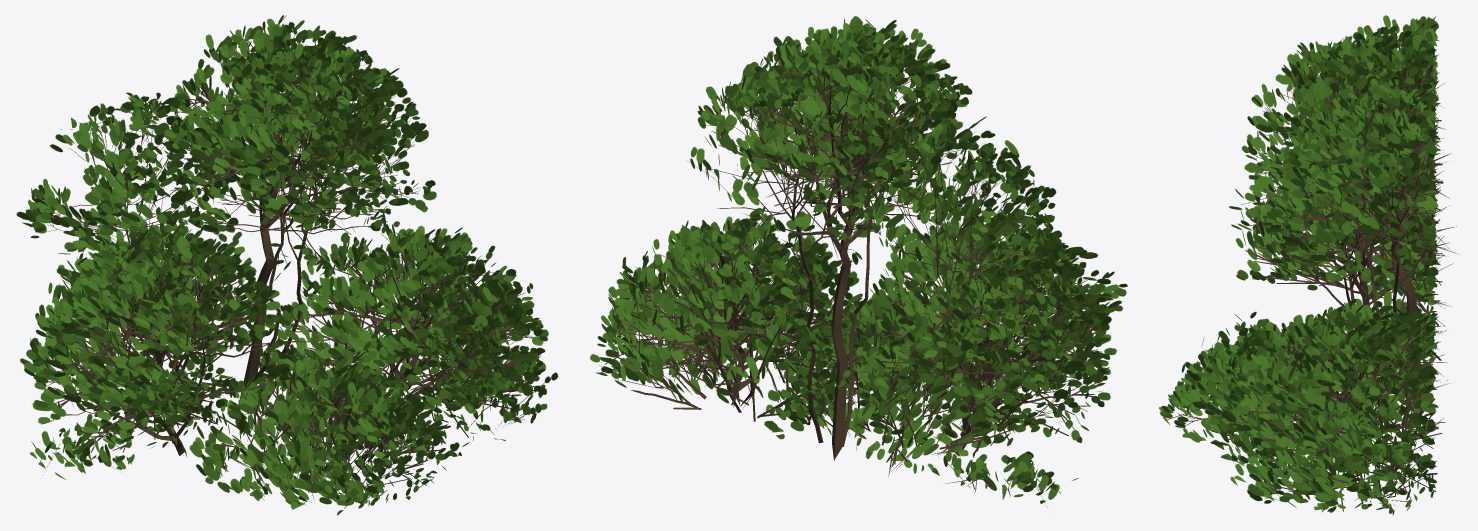
3 views of the same model, side by side, from view 1: azimuth 30°, elevation 25°; view 2: azimuth 150°, elevation 25°; view 3: azimuth 270°, elevation 25° (orthographic). The views are drawn at different scales.
Parts seen in each view (by area): view 1: oak 01.001_trunk_Mat.001_0.235; view 2: oak 01.001_trunk_Mat.001_0.235; view 3: oak 01.001_trunk_Mat.001_0.235.
Boxes of the visible parts, left/top/right/bottom form: oak 01.001_trunk_Mat.001_0.235: left=16, top=15, right=557, bottom=515; oak 01.001_trunk_Mat.001_0.235: left=590, top=16, right=1127, bottom=506; oak 01.001_trunk_Mat.001_0.235: left=1159, top=15, right=1458, bottom=514.
Size of the model in its own units: 4.28 by 3.42 by 2.37.
Materials: 2 (1 with a texture image).
